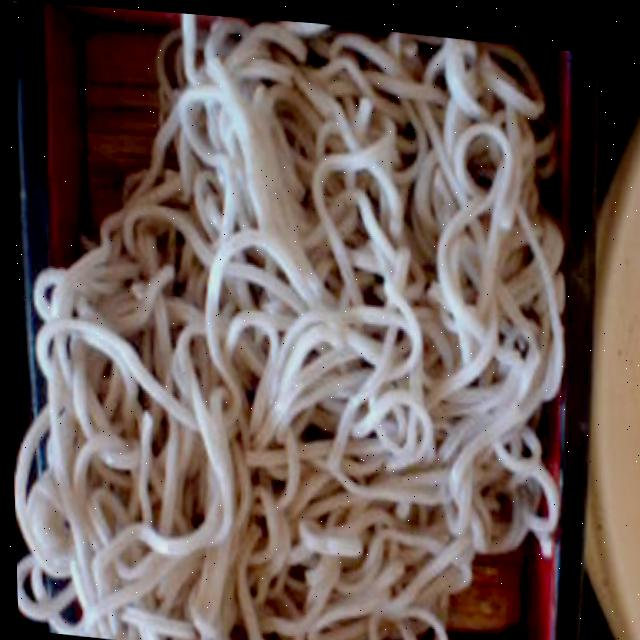面条主食: (0, 0, 614, 640)
